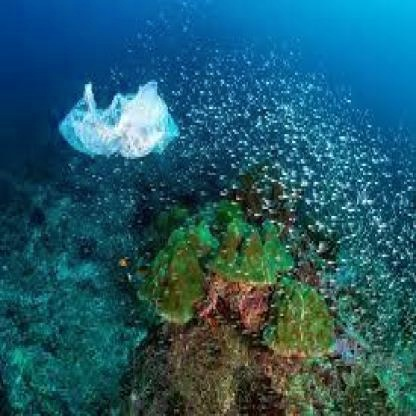pbag: (59, 80, 182, 162)
